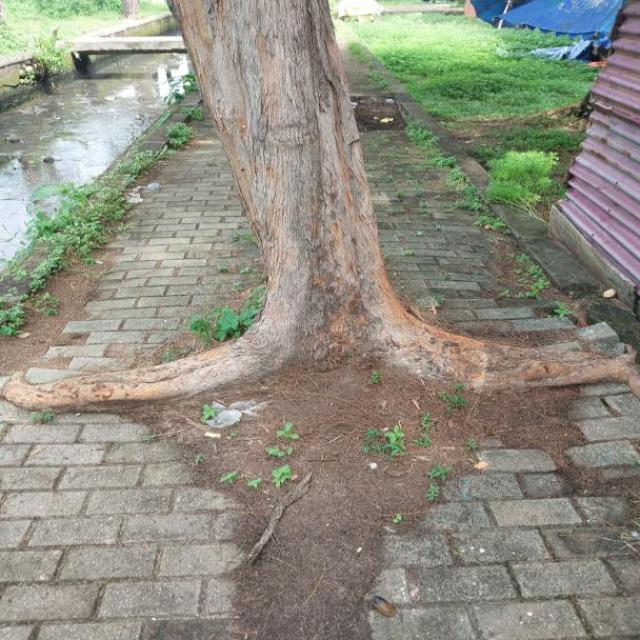tree ahead at: (153, 0, 430, 400)
